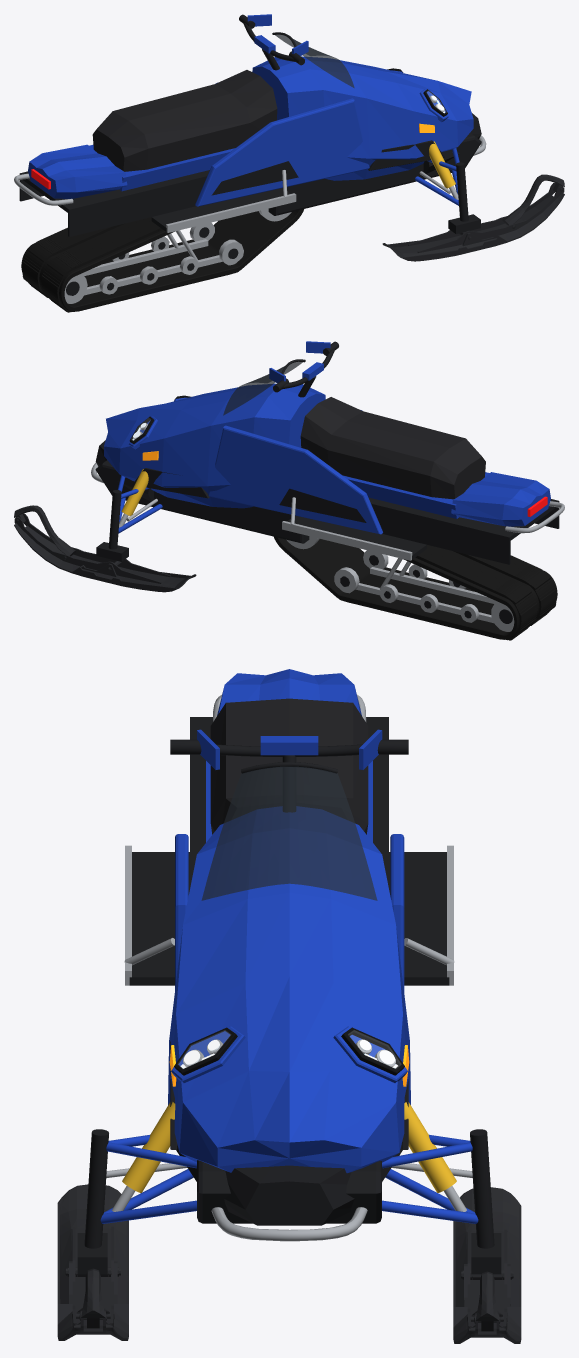
The model's file is quad_sled400.glb.
The picture shows the model from 3 angles, top to bottom: view 1: azimuth 30°, elevation 25°; view 2: azimuth 150°, elevation 25°; view 3: azimuth 270°, elevation 25°; orthographic projection. The views are drawn at different scales.
Visible parts, largest first — view 1: hood, side_intake_left, seat, headlight_surround_left, track, ski_left, idler_front_wheel_left, headlight_projector_ring_high_left, track_lug_0l, track_lug_0l_p1, track_lug_0l_p5, track_lug_0l_p2 (+9 smaller); view 2: hood, side_intake_left, seat, headlight_surround_left, track, ski_right, idler_front_wheel_left, headlight_projector_ring_high_left, track_lug_0l, track_lug_0l_p1, track_lug_0l_p5, track_lug_0l_p2 (+9 smaller); view 3: hood, side_intake_left, windshield, seat, headlight_surround_left, ski_left, ski_right, front_fascia, headlight_projector_ring_high_left, shock_spring_left, ski_saddle_right, ski_saddle_left (+4 smaller).
Boxes of the visible parts, box(x1,y1,x2,y2) form: hood: box(28, 56, 473, 198); side_intake_left: box(19, 32, 481, 236); seat: box(92, 70, 277, 171); headlight_surround_left: box(195, 70, 459, 206); track: box(21, 209, 303, 311); ski_left: box(382, 174, 564, 261); idler_front_wheel_left: box(64, 222, 243, 303); headlight_projector_ring_high_left: box(14, 95, 486, 232); track_lug_0l: box(21, 218, 238, 312); track_lug_0l_p1: box(22, 218, 236, 311); track_lug_0l_p5: box(21, 219, 229, 312); track_lug_0l_p2: box(22, 217, 234, 311); hood: box(104, 383, 550, 526); side_intake_left: box(95, 359, 559, 564); seat: box(300, 397, 485, 499); headlight_surround_left: box(117, 397, 382, 534); track: box(274, 536, 557, 639); ski_right: box(14, 505, 196, 592); idler_front_wheel_left: box(334, 550, 514, 631); headlight_projector_ring_high_left: box(91, 422, 564, 560); track_lug_0l: box(285, 546, 557, 640); track_lug_0l_p1: box(341, 546, 556, 639); track_lug_0l_p5: box(339, 547, 557, 640); track_lug_0l_p2: box(344, 545, 556, 639); hood: box(168, 669, 410, 1173); side_intake_left: box(129, 717, 449, 1223); windshield: box(201, 766, 377, 900); seat: box(210, 698, 368, 834); headlight_surround_left: box(100, 834, 478, 1223); ski_left: box(57, 1184, 128, 1340); ski_right: box(453, 1187, 521, 1343); front_fascia: box(176, 1143, 402, 1225); headlight_projector_ring_high_left: box(106, 694, 472, 1241); shock_spring_left: box(122, 1102, 456, 1192); ski_saddle_right: box(470, 1129, 501, 1274); ski_saddle_left: box(77, 1129, 108, 1274).
Bounding box in the file's own units: 2.93 × 1.23 × 1.2.
